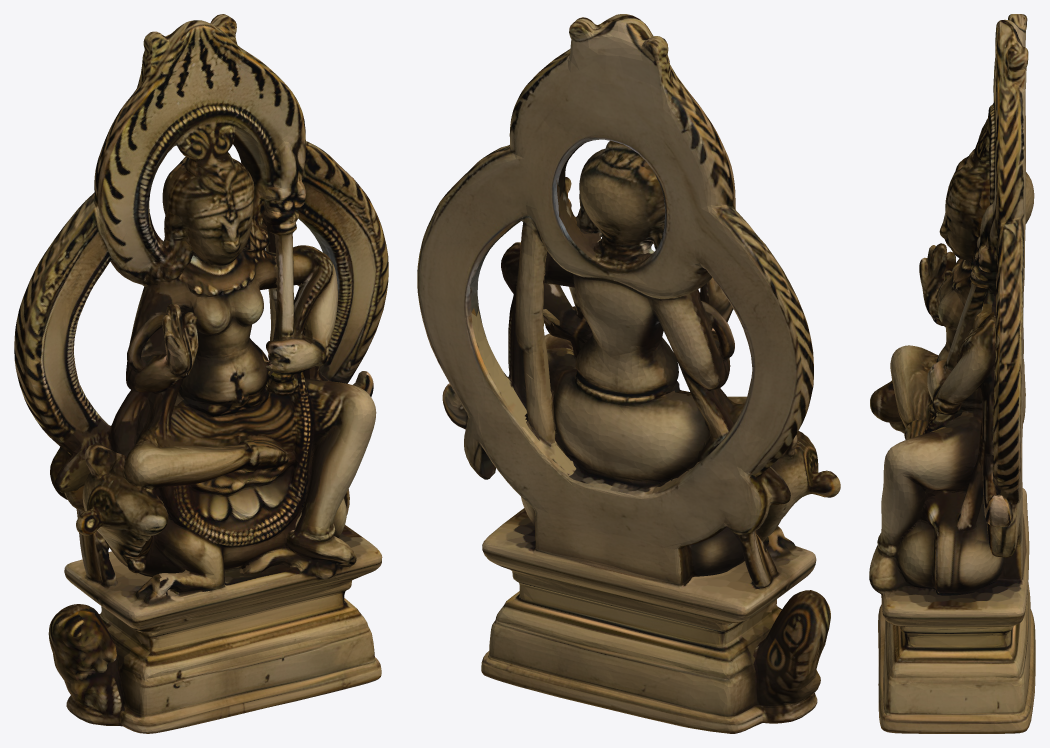
The picture shows the model from 3 angles, left to right: view 1: azimuth 30°, elevation 25°; view 2: azimuth 150°, elevation 25°; view 3: azimuth 270°, elevation 25°; orthographic projection. The views are drawn at different scales.
Visible parts, largest first — view 1: textured_mesh; view 2: textured_mesh; view 3: textured_mesh.
Part boxes in pixels (<box>): textured_mesh: <box>14,14,388,733</box>; textured_mesh: <box>417,14,840,733</box>; textured_mesh: <box>869,14,1035,733</box>.
Bounding box in the file's own units: 1.19 × 1.99 × 0.4628.
1 material, 1 textured.
